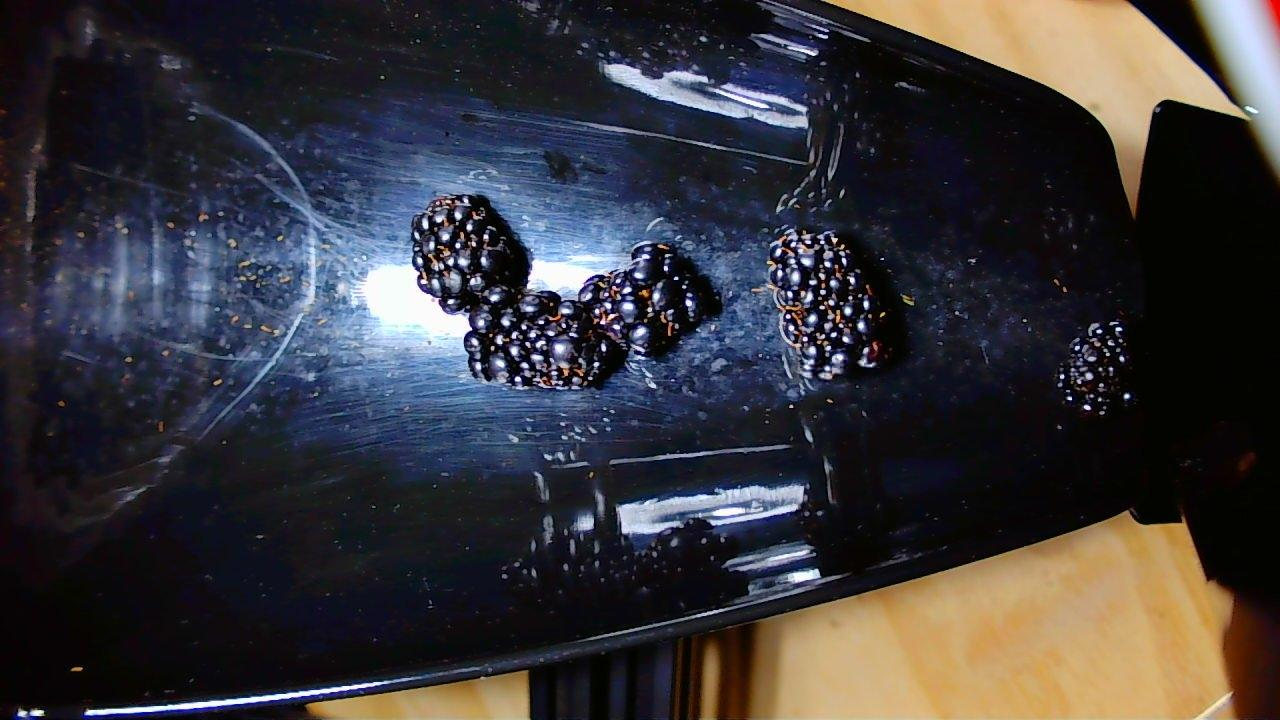berry: (766, 223, 887, 380), (408, 191, 528, 312), (582, 241, 713, 351), (468, 292, 606, 388), (1059, 318, 1132, 424)
